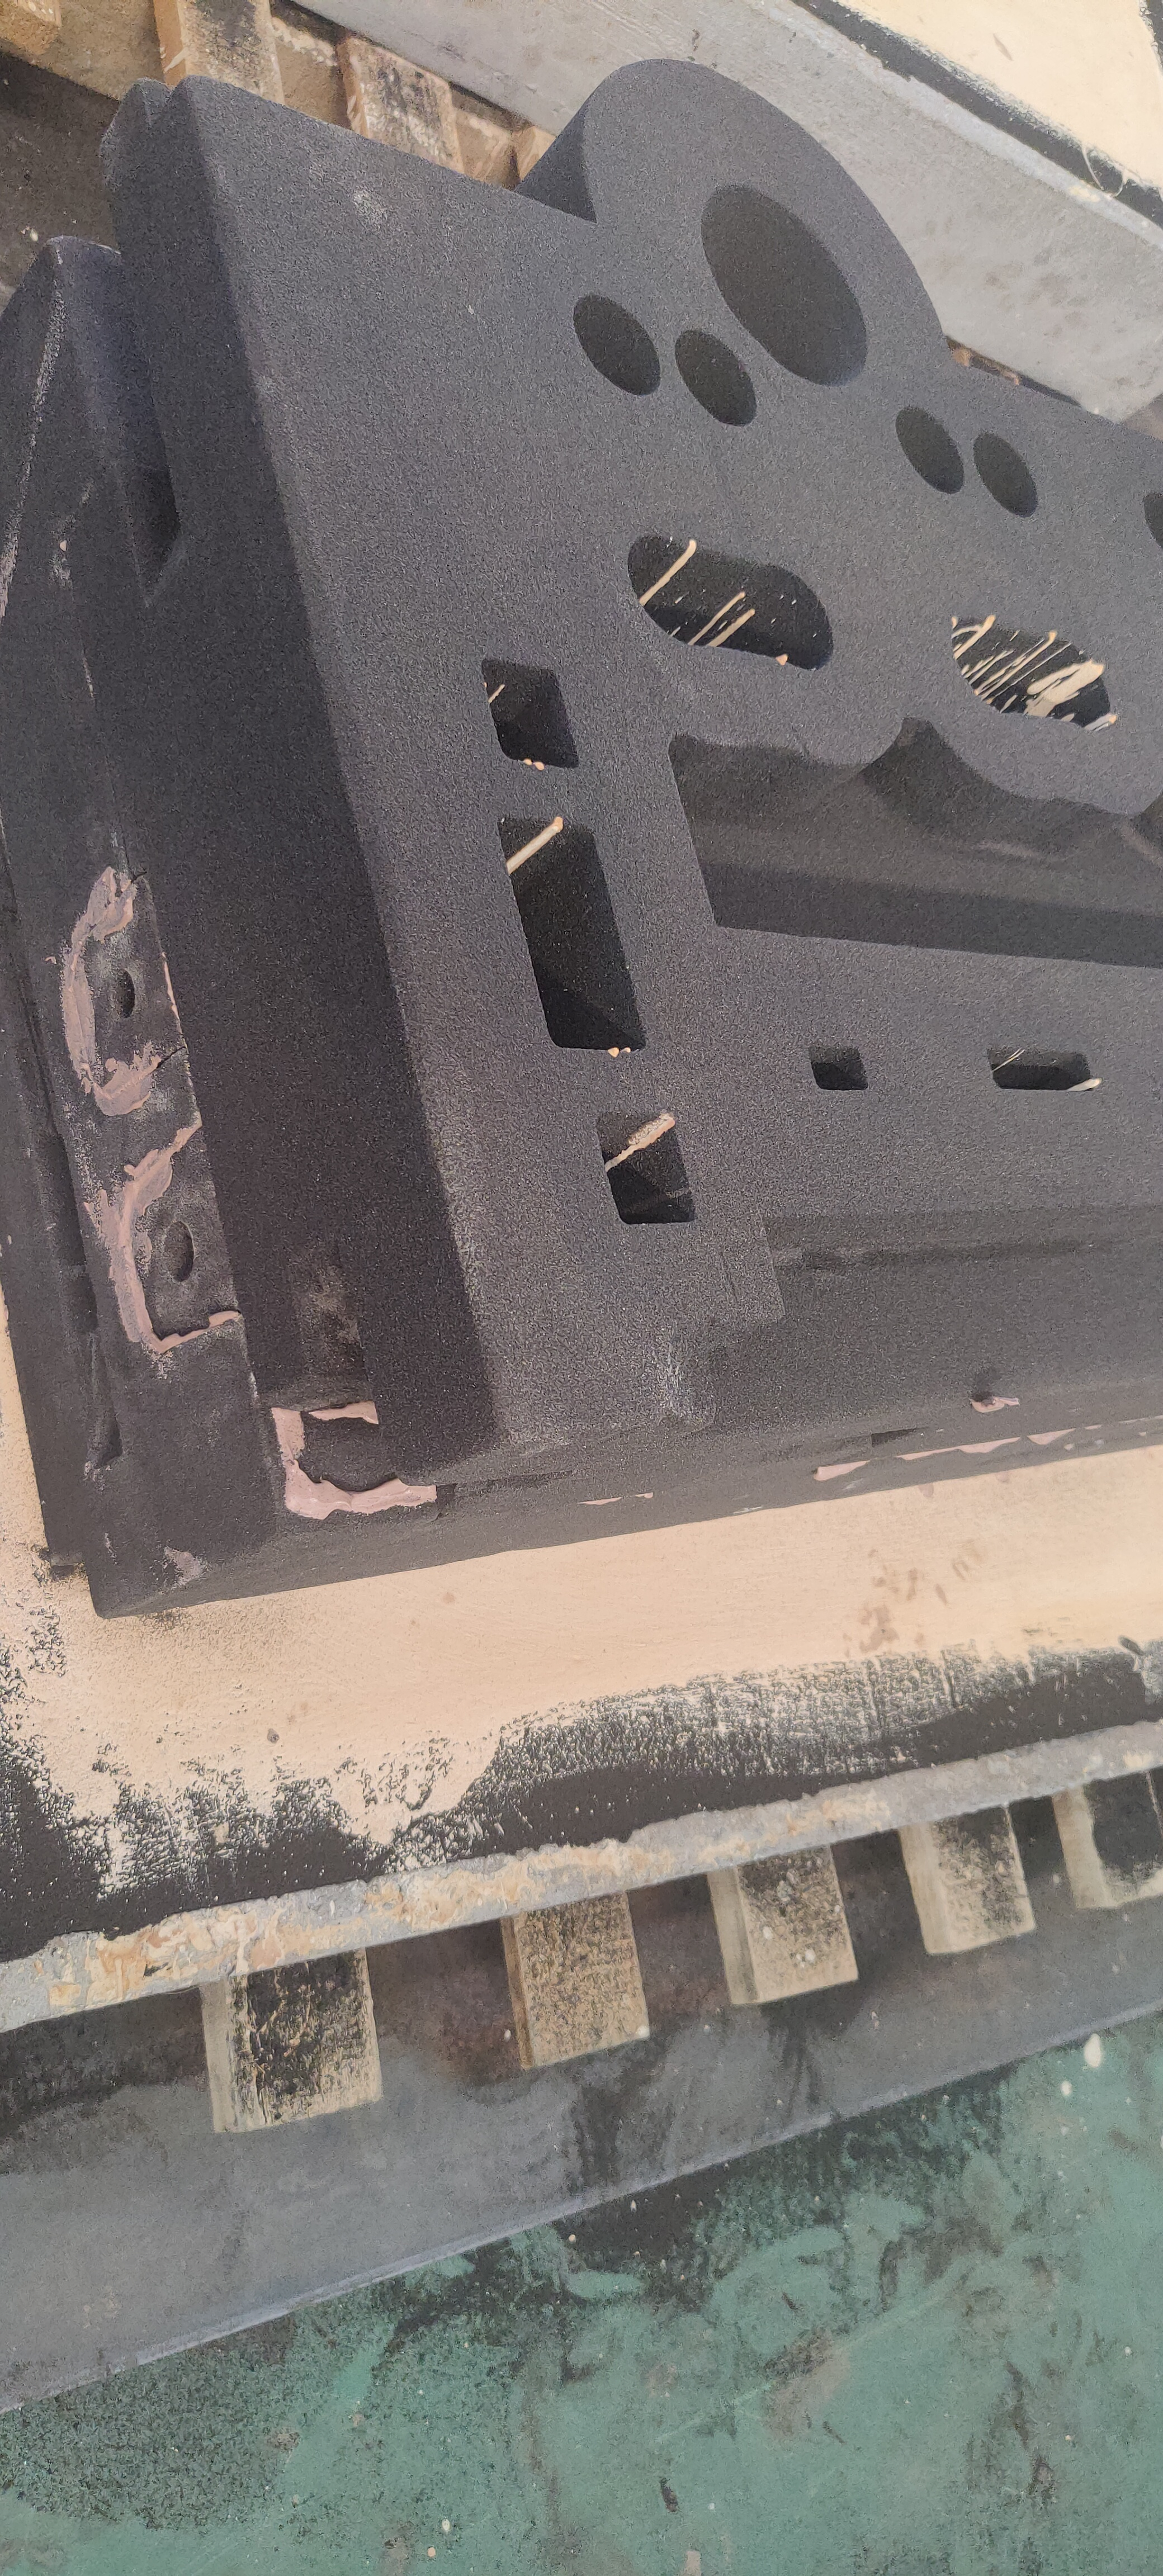pouring hole: (701, 186, 869, 386)
